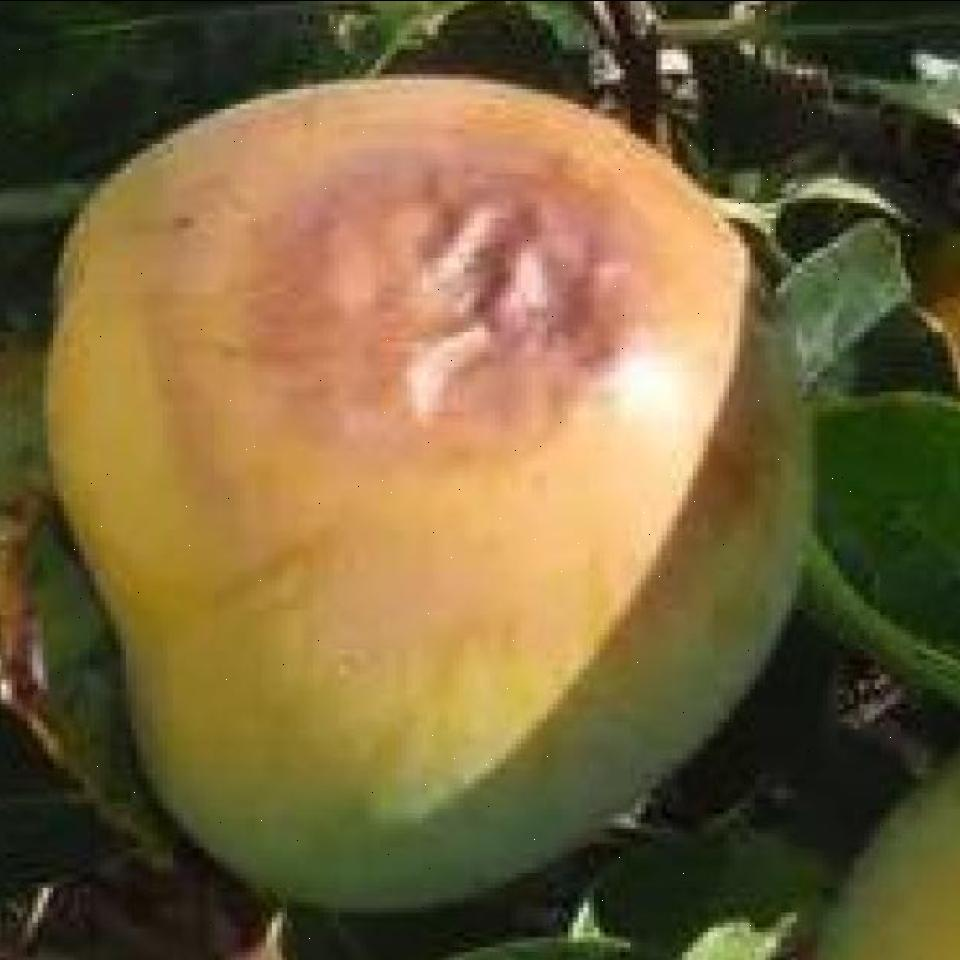Sunscald: (220, 139, 734, 508)
